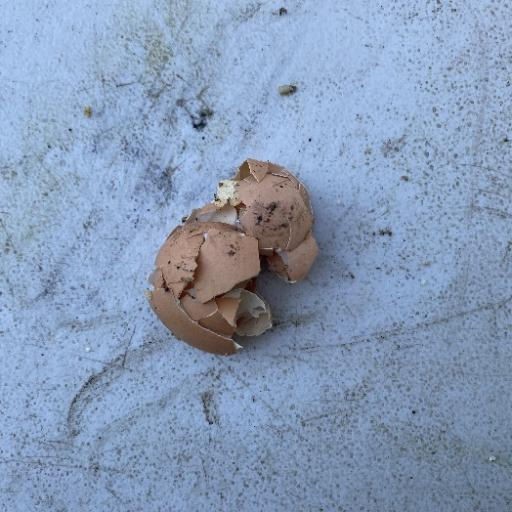Waste: (144, 156, 320, 357)
